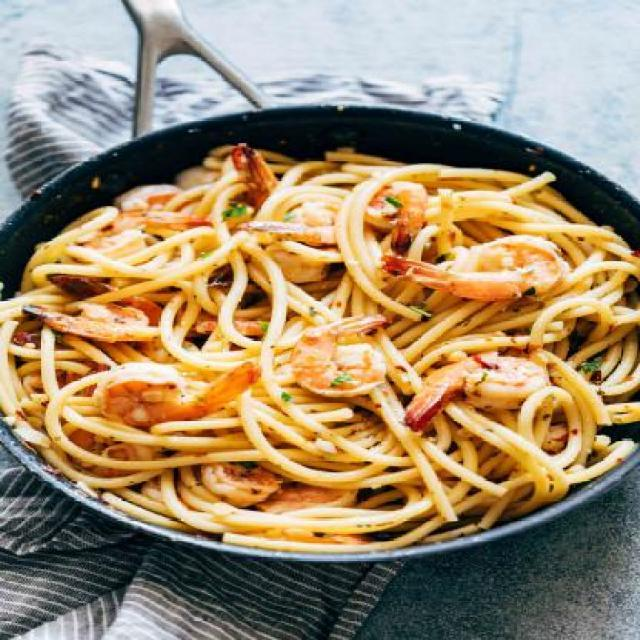Oil pasta: (26, 110, 638, 532)
